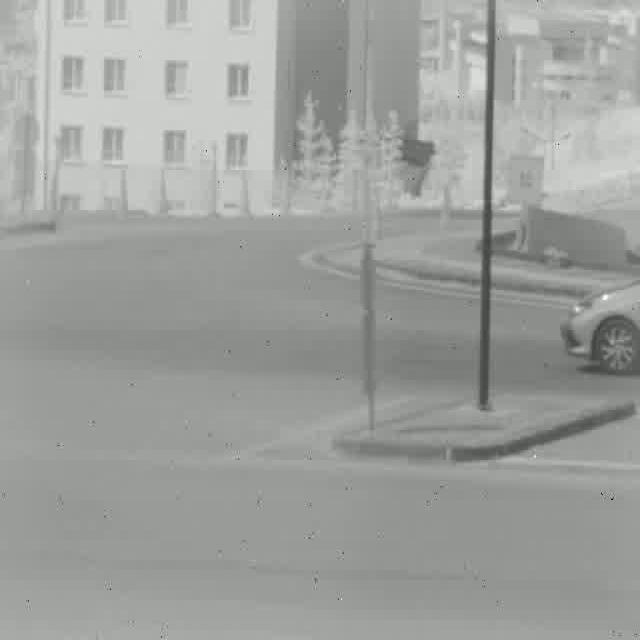Car: (563, 280, 640, 372)
